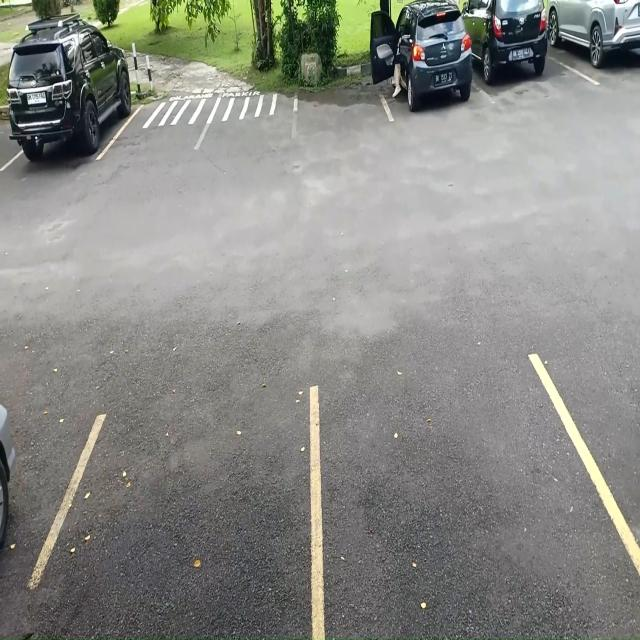empty: (314, 354, 596, 640), (57, 406, 314, 640)
occupied: (7, 43, 129, 166), (383, 13, 476, 121), (476, 0, 552, 102)
